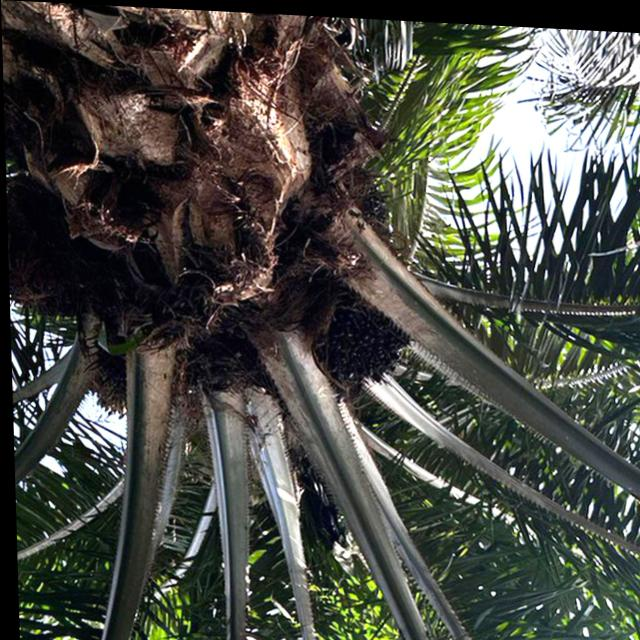unripe: (307, 286, 410, 397)
